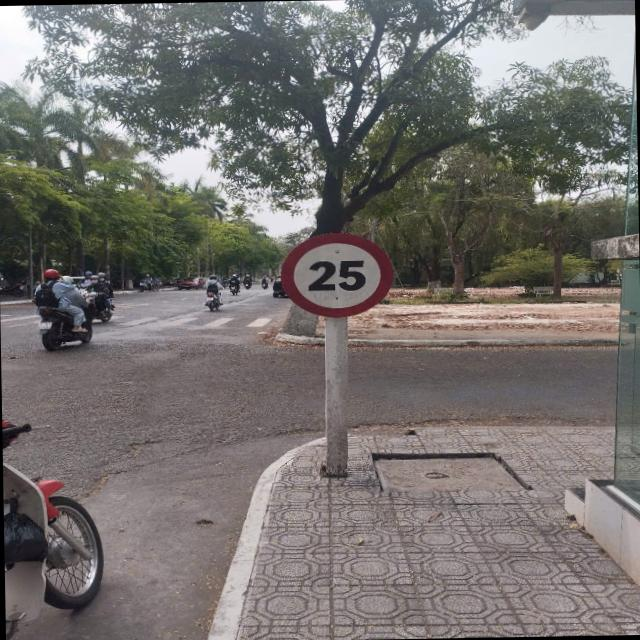Tre_Em: (277, 230, 395, 318)
